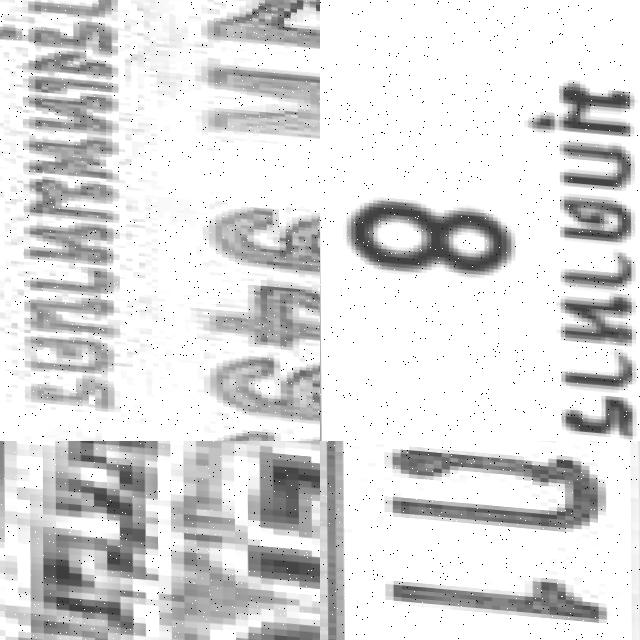license-plate: (0, 0, 320, 441), (320, 0, 640, 441), (0, 441, 320, 640), (320, 441, 640, 640)
